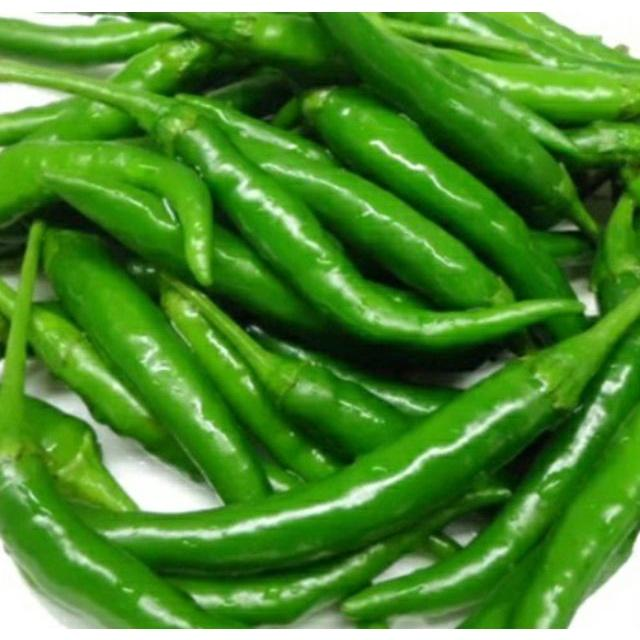chili_pepper: (93, 289, 640, 576), (0, 61, 459, 352), (43, 229, 269, 504), (322, 12, 599, 236), (304, 89, 575, 299), (224, 124, 515, 308), (0, 141, 214, 284), (511, 263, 572, 298)
